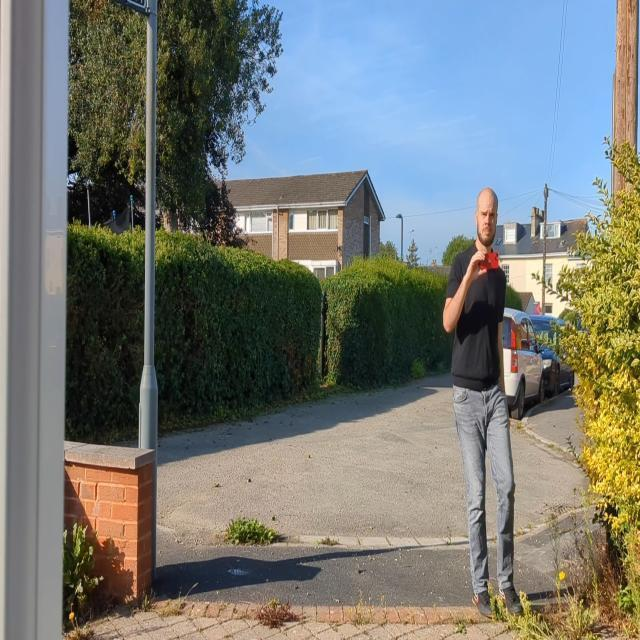lens: (493, 252, 499, 261)
phone: (479, 252, 499, 270)
